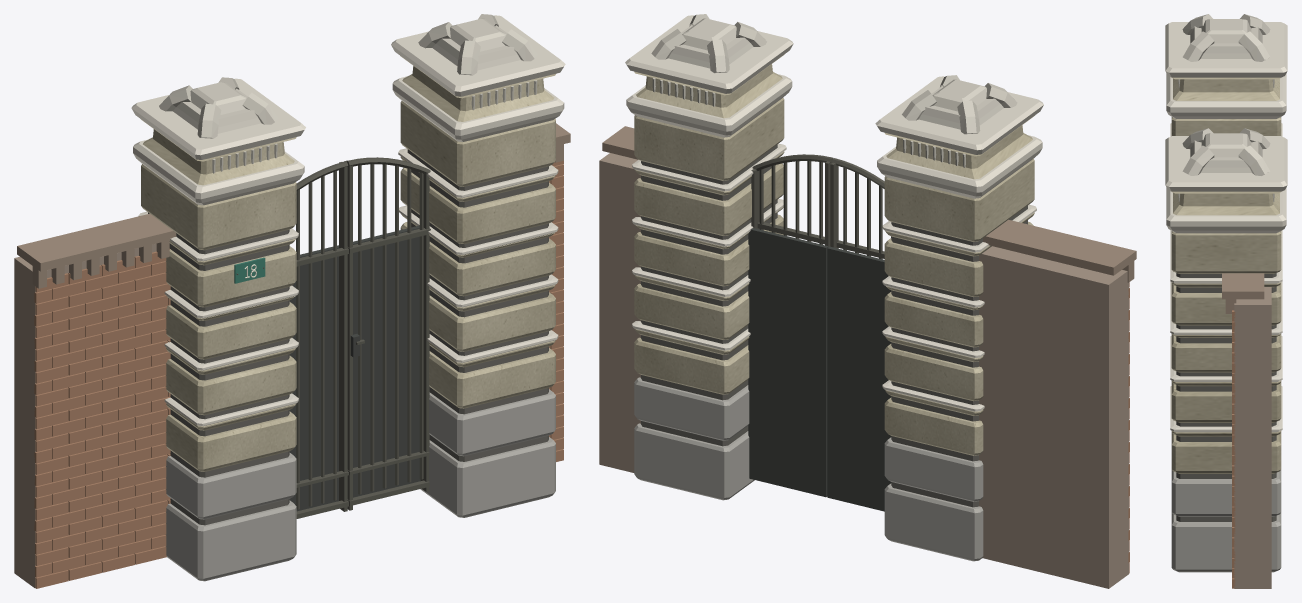
The model's file is pingwu-18-gate-far.glb.
3 views of the same model, side by side, from view 1: azimuth 30°, elevation 25°; view 2: azimuth 150°, elevation 25°; view 3: azimuth 270°, elevation 25° (orthographic). The views are drawn at different scales.
Visible parts, largest first — view 1: 外国弄堂平武路18号院门分段石柱与弧顶铁门; view 2: 外国弄堂平武路18号院门分段石柱与弧顶铁门; view 3: 外国弄堂平武路18号院门分段石柱与弧顶铁门.
Boxes of the visible parts, <box> form: 外国弄堂平武路18号院门分段石柱与弧顶铁门: <box>14,14,570,588</box>; 外国弄堂平武路18号院门分段石柱与弧顶铁门: <box>599,14,1136,588</box>; 外国弄堂平武路18号院门分段石柱与弧顶铁门: <box>1165,14,1287,588</box>.
Bounding box in the file's own units: 3.21 × 2.66 × 0.711.
12 materials, 1 textured.
